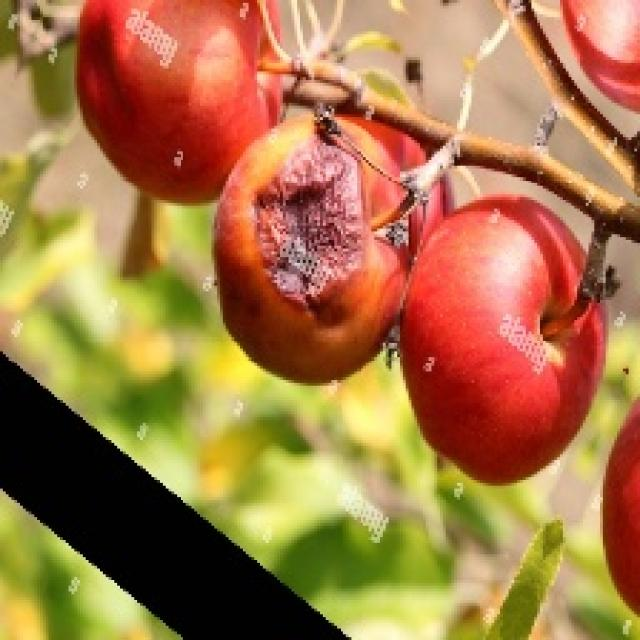rotten_apple: (220, 120, 410, 380)
